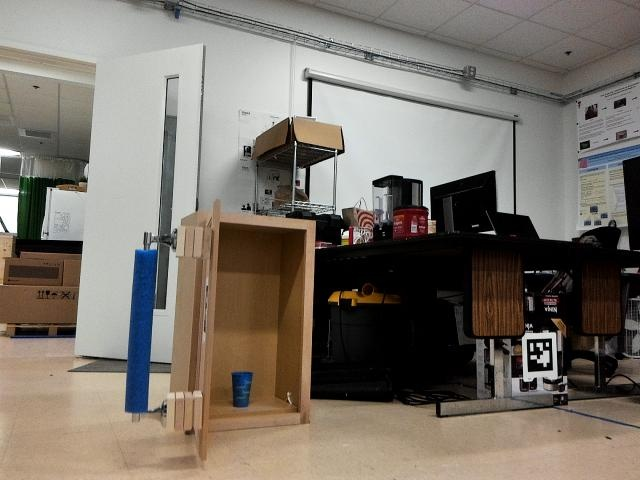noodle_handle: (125, 245, 155, 416)
water_cup: (223, 363, 257, 411)
